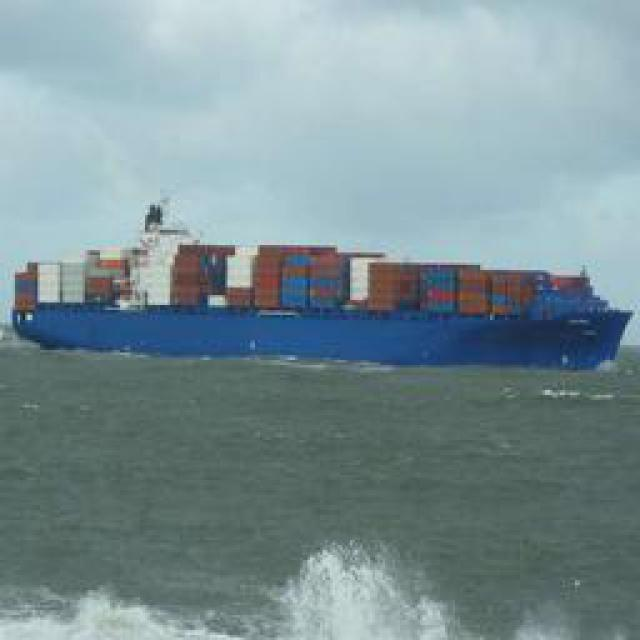Ship: (16, 255, 631, 365)
